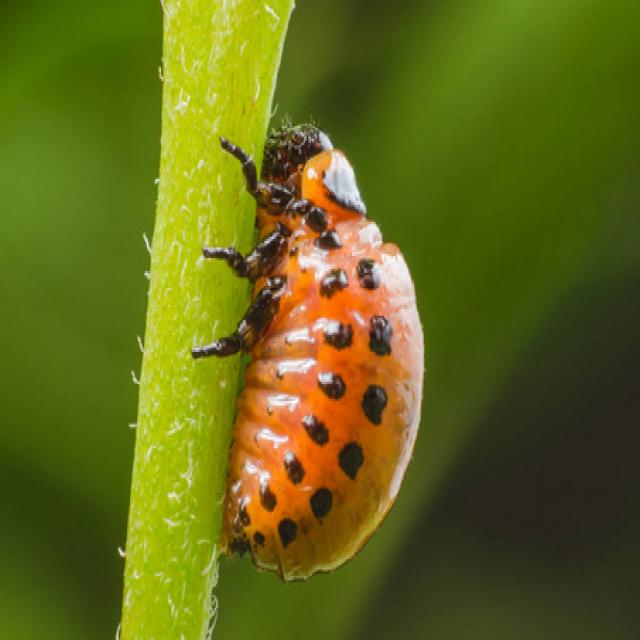ShuCaiHuaBanChong-Larva-: (229, 105, 421, 587)
